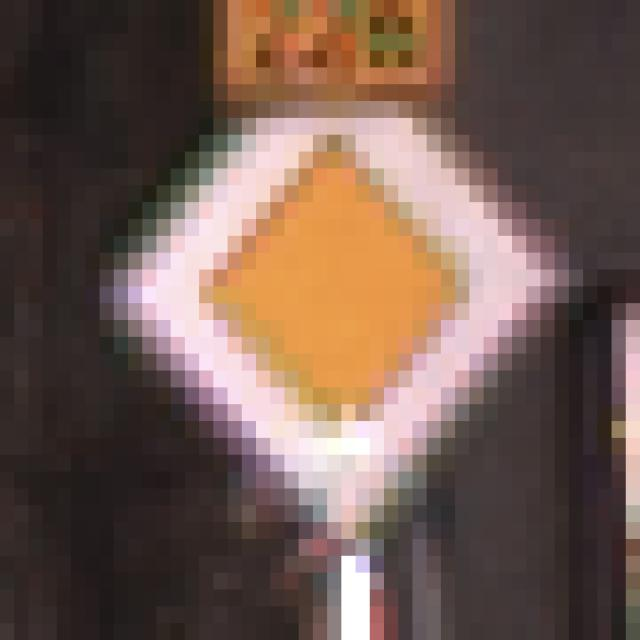Main Road: (72, 85, 570, 557)
